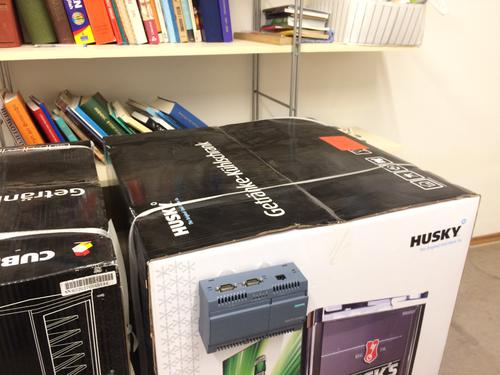iot2000: (197, 260, 309, 355)
